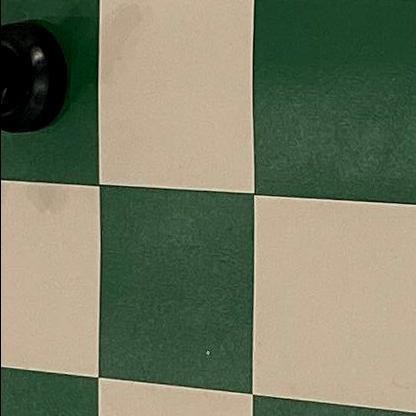black-knight: (0, 18, 67, 136)
